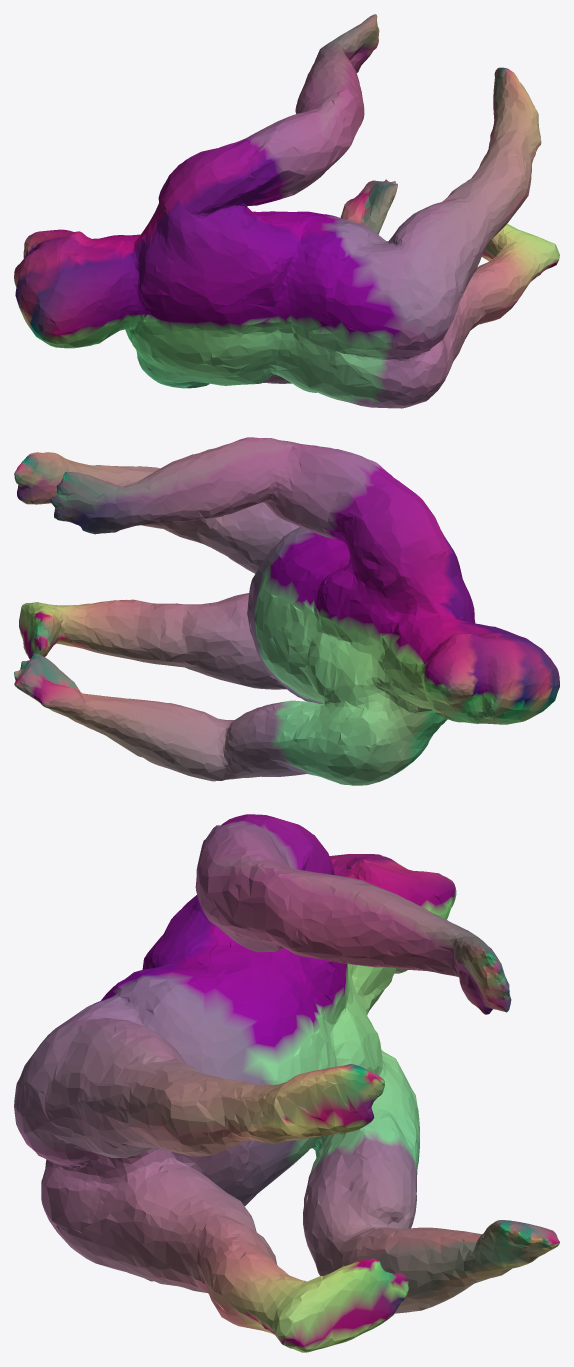
Rendered from gorilla-13.off.obj.
The picture shows the model from 3 angles, top to bottom: view 1: azimuth 30°, elevation 25°; view 2: azimuth 150°, elevation 25°; view 3: azimuth 270°, elevation 25°; orthographic projection. The views are drawn at different scales.
Size of the model in its own units: 1.73 by 0.9657 by 1.11.
